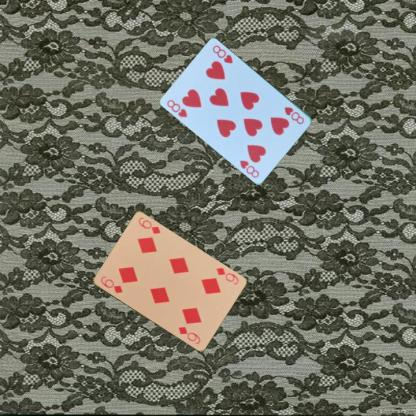6d: (213, 265, 240, 286), (98, 274, 124, 295)
8h: (165, 97, 189, 119), (282, 104, 306, 125)
